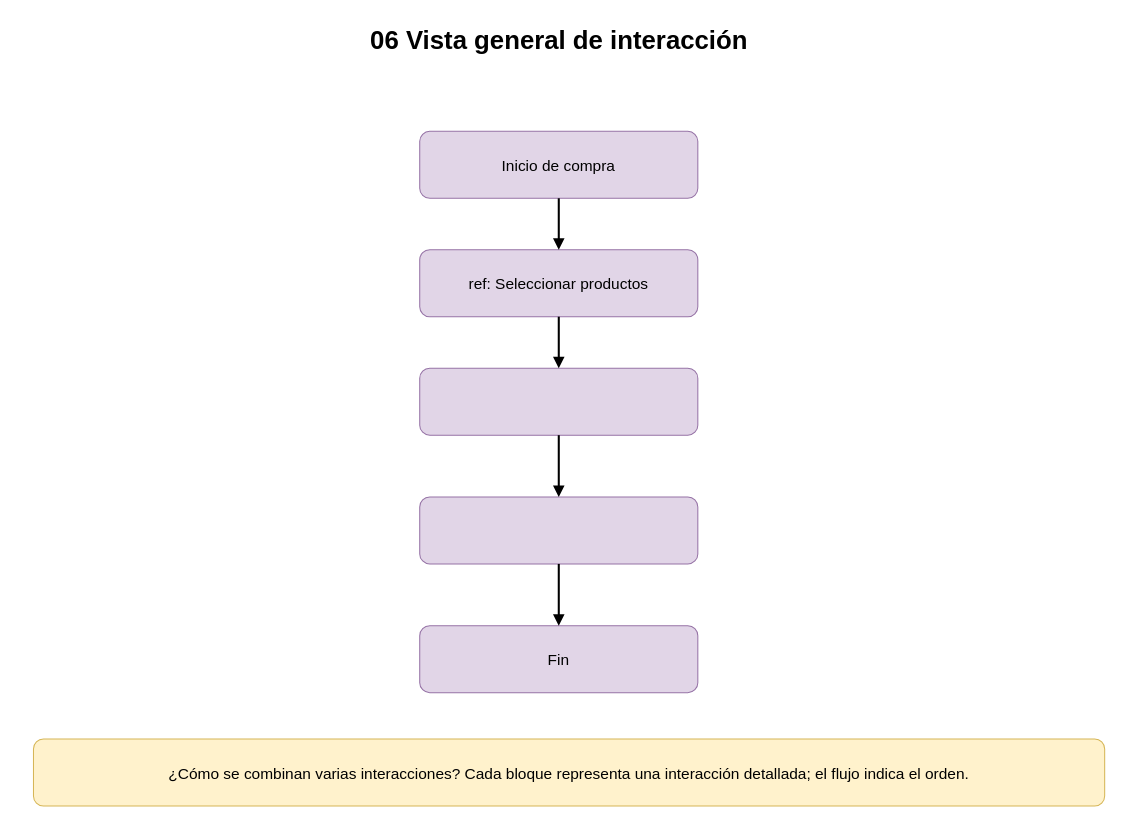
Some shapes in this 1123 by 824 pixel diagram are drawn without their labels. Each missing label, with the box of its shape:
ref: Confirmar pedido: (419, 496, 698, 564)
ref: Procesar pago: (419, 367, 698, 435)
